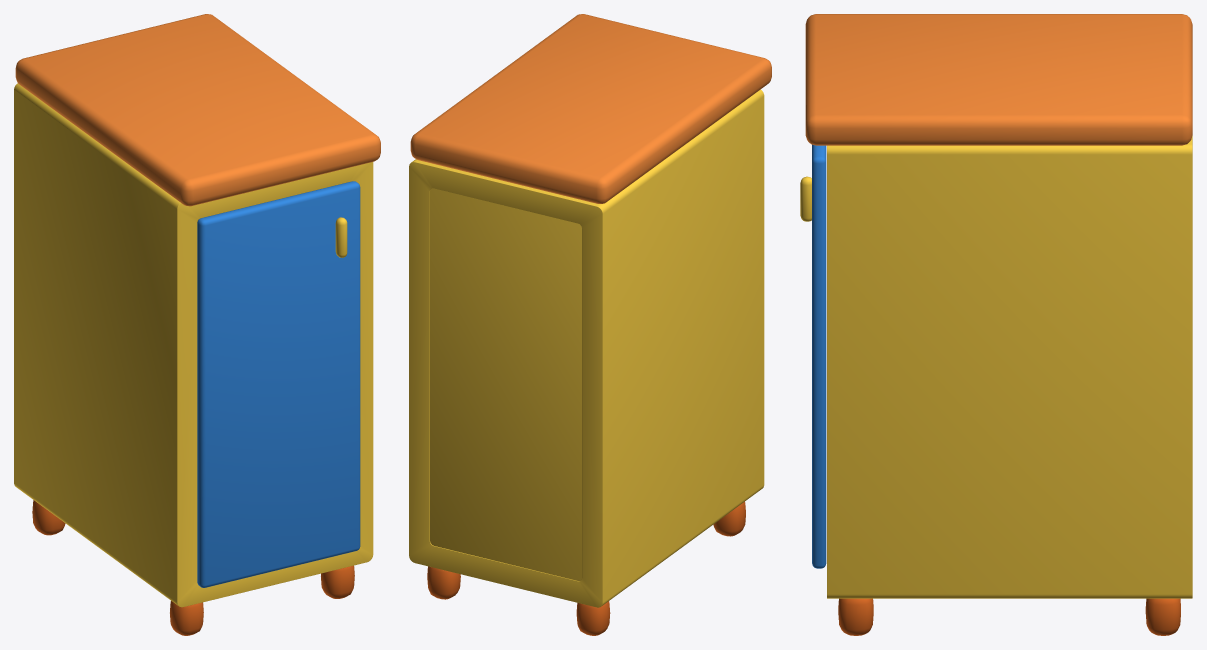
Rendered from armario_cozinha_base_1porta_moderna.glb.
3 renders of one model, left to right at view 1: azimuth 30°, elevation 25°; view 2: azimuth 150°, elevation 25°; view 3: azimuth 270°, elevation 25°, orthographic. The views are drawn at different scales.
Visible parts, largest first — view 1: armario_cozinha_base_1porta_moderna, porta_1; view 2: armario_cozinha_base_1porta_moderna; view 3: armario_cozinha_base_1porta_moderna, porta_1.
Part boxes in pixels (<box>): armario_cozinha_base_1porta_moderna: <box>14,14,380,635</box>; porta_1: <box>197,181,360,587</box>; armario_cozinha_base_1porta_moderna: <box>409,14,771,635</box>; armario_cozinha_base_1porta_moderna: <box>805,14,1192,635</box>; porta_1: <box>800,144,826,568</box>.
Bounding box in the file's own units: 0.398 × 0.9 × 0.607.
1 material, 1 textured.
